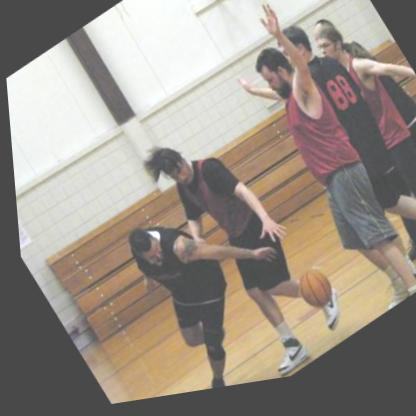basketball: (285, 269, 334, 324)
